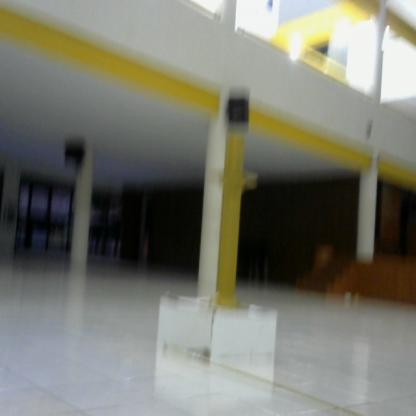pole: (206, 142, 265, 317)
